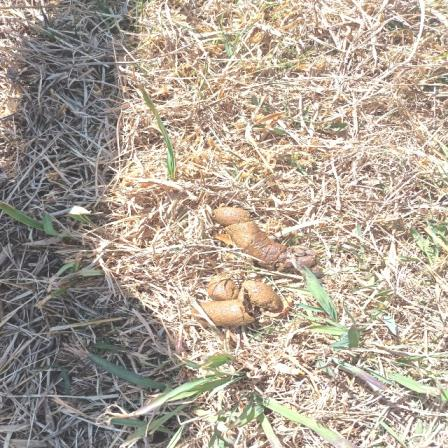dog-poop: (213, 201, 324, 273), (205, 277, 281, 327)
